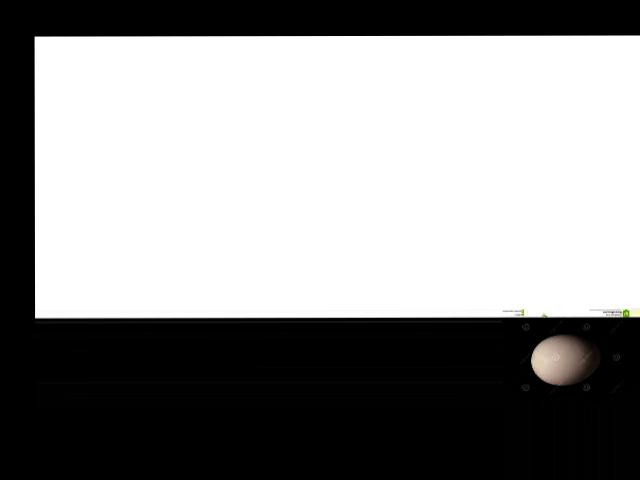egg: (530, 333, 600, 385)
